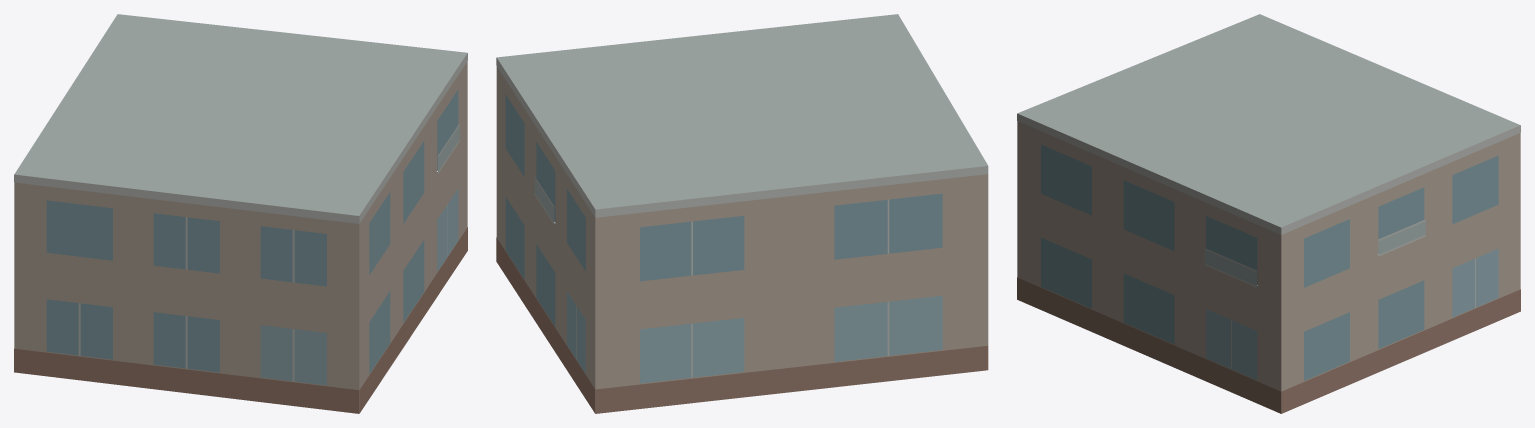
File: survey-upis-32853822.glb
The picture shows the model from 3 angles, left to right: view 1: azimuth 30°, elevation 25°; view 2: azimuth 150°, elevation 25°; view 3: azimuth 270°, elevation 25°; orthographic projection. The views are drawn at different scales.
Visible parts, largest first — view 1: survey-upis-32853822.tmp; view 2: survey-upis-32853822.tmp; view 3: survey-upis-32853822.tmp.
Part boxes in pixels (left/top/right/bottom): survey-upis-32853822.tmp: left=14, top=14, right=467, bottom=413; survey-upis-32853822.tmp: left=496, top=14, right=988, bottom=413; survey-upis-32853822.tmp: left=1017, top=14, right=1520, bottom=413.
Size of the model in its own units: 15.01 by 6.1 by 14.95.
